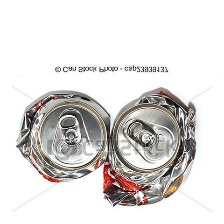can: (99, 85, 199, 210), (13, 84, 110, 183)
